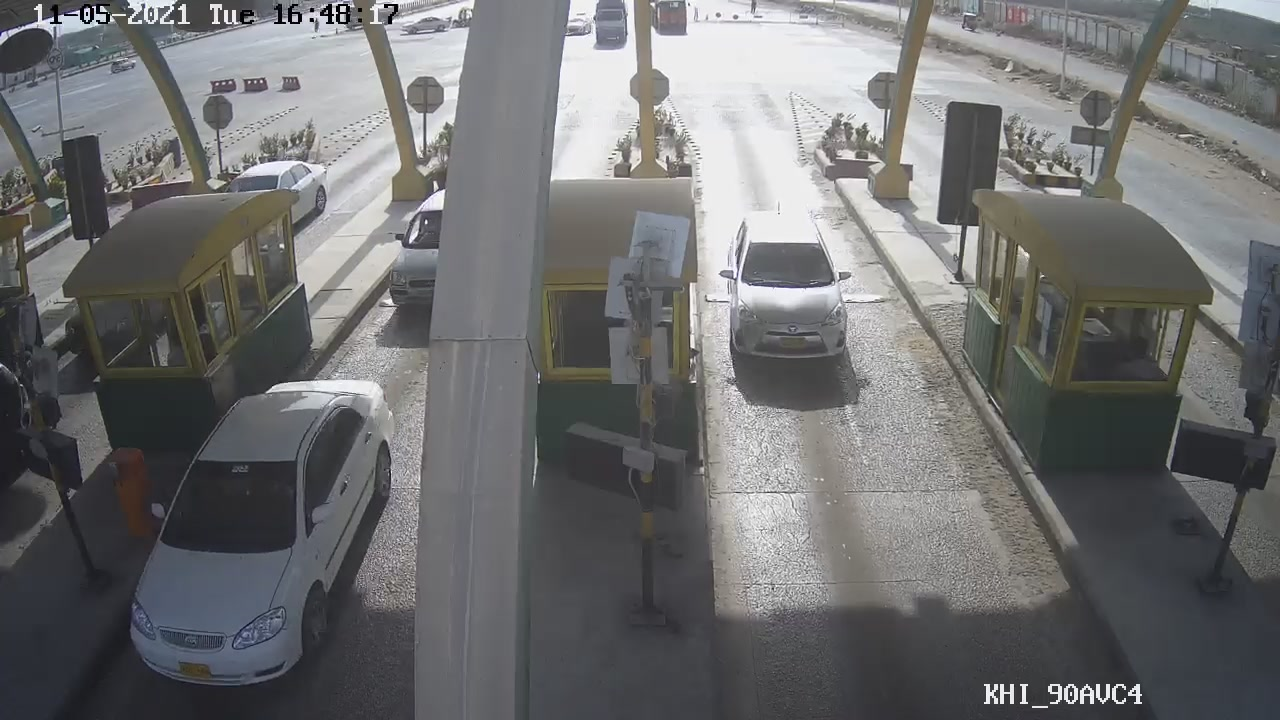F1: (721, 197, 852, 367)
